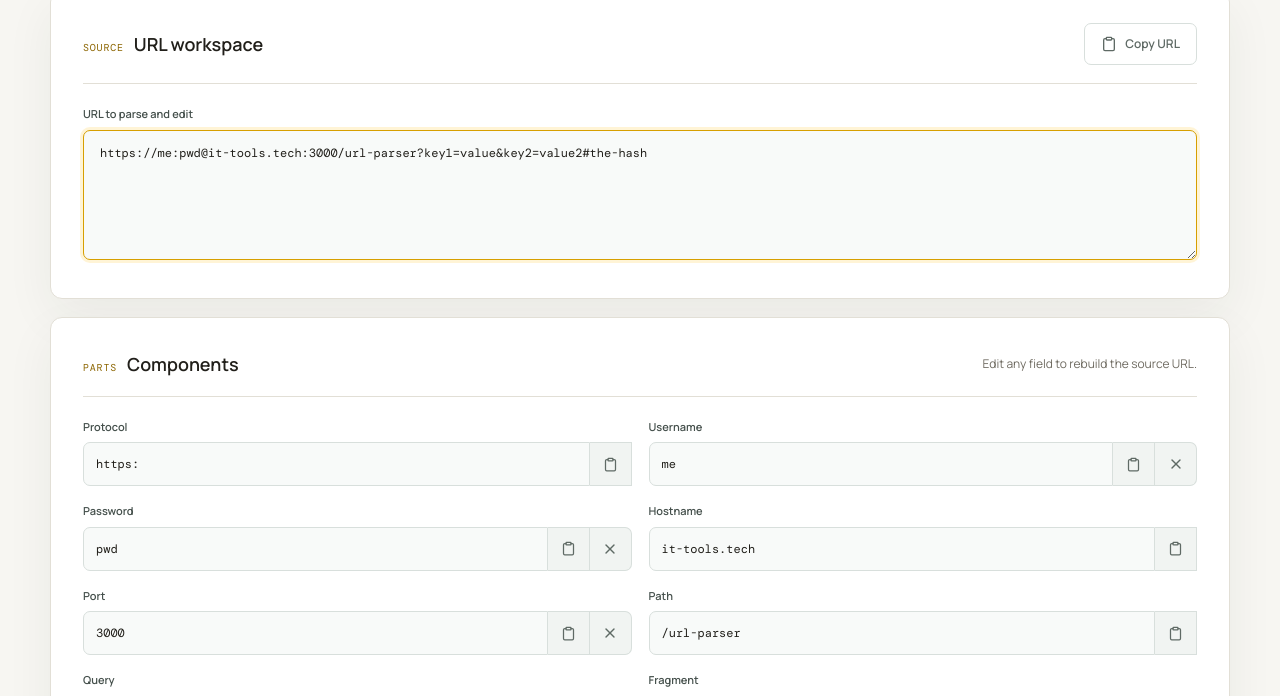
Scenario: UrlParserTool › preserves duplicate parameters and removes one exact row
Replace the text in the text box labelled "URL to parse and edit" with "https://example.com/?tag=one&tag=two" at (640, 194), box [83, 130, 1197, 260]
(page scrolled)
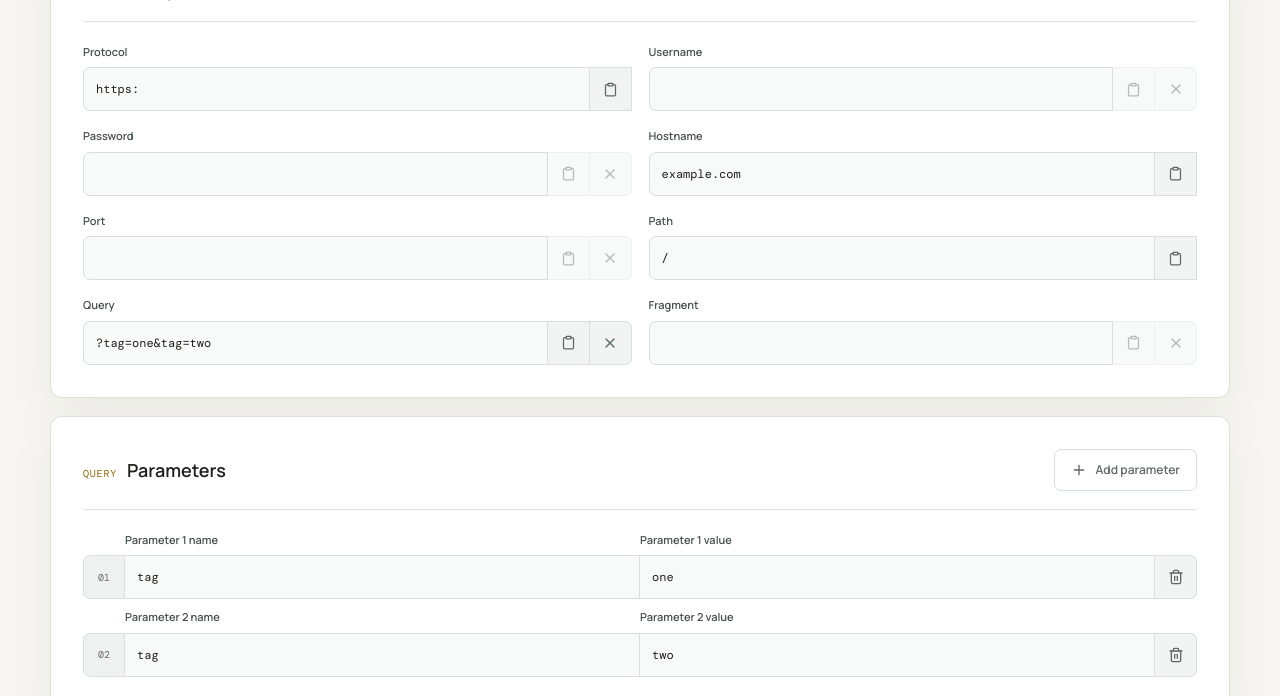
Result: the field labelled "Parameter 1 name" holds "tag" at [125, 555, 640, 599]
Result: the field labelled "Parameter 2 name" holds "tag" at [125, 632, 640, 676]
Click the button named "Remove parameter 1" at (1176, 577), box [1155, 555, 1197, 599]
(page scrolled)
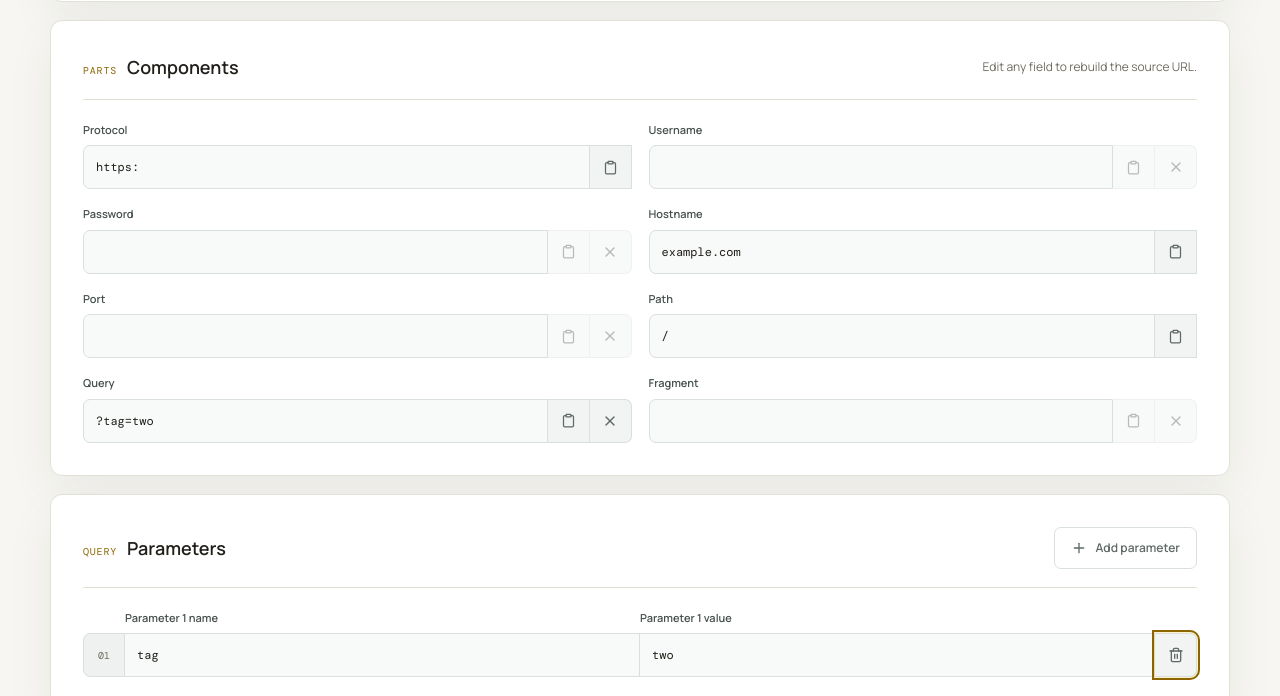
Result: the field labelled "Parameter 1 value" holds "two" at [640, 633, 1155, 677]
Result: the label labelled "Parameter 2 value" is gone
